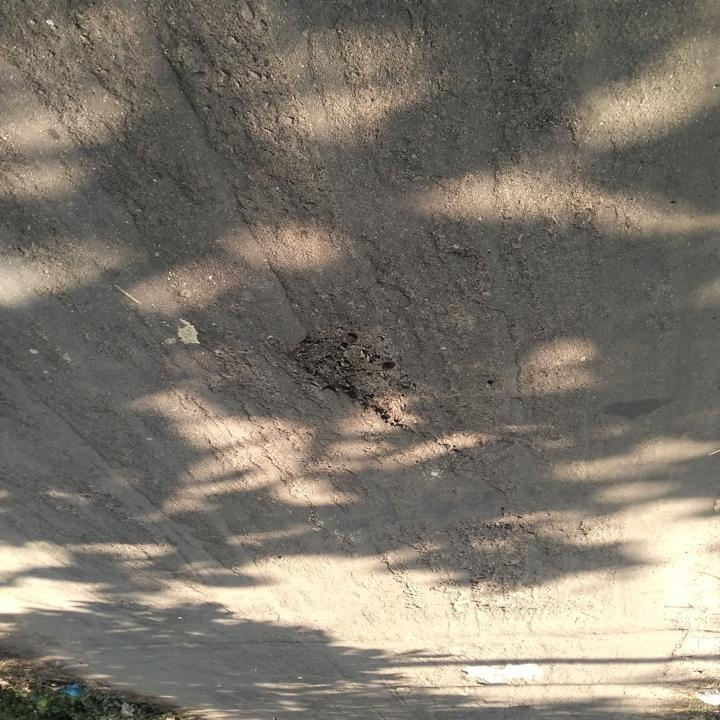pothole: (284, 322, 418, 430)
